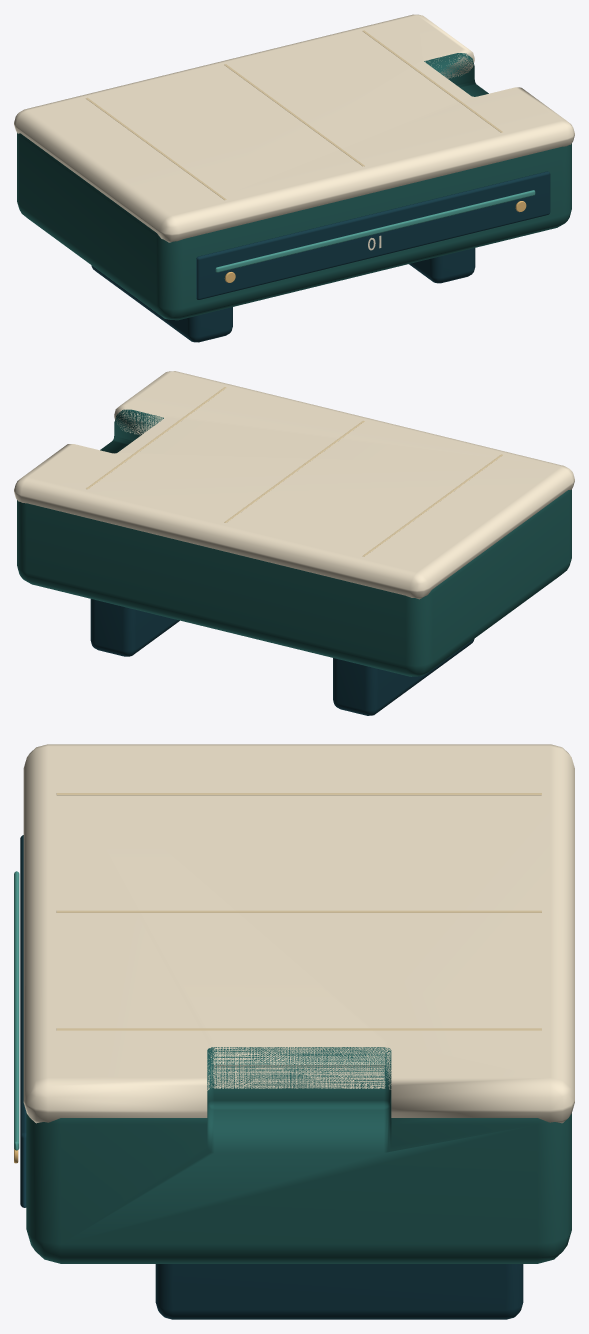
The model's file is floor_left.glb.
The picture shows the model from 3 angles, top to bottom: view 1: azimuth 30°, elevation 25°; view 2: azimuth 150°, elevation 25°; view 3: azimuth 270°, elevation 25°; orthographic projection. The views are drawn at different scales.
Parts seen in each view (by area): view 1: floor_left_mesh; view 2: floor_left_mesh; view 3: floor_left_mesh.
Boxes of the visible parts, <box> form: floor_left_mesh: <box>14,14,574,342</box>; floor_left_mesh: <box>14,371,574,715</box>; floor_left_mesh: <box>14,744,574,1319</box>.
Size of the model in its own units: 2.9 by 1.12 by 1.95.
